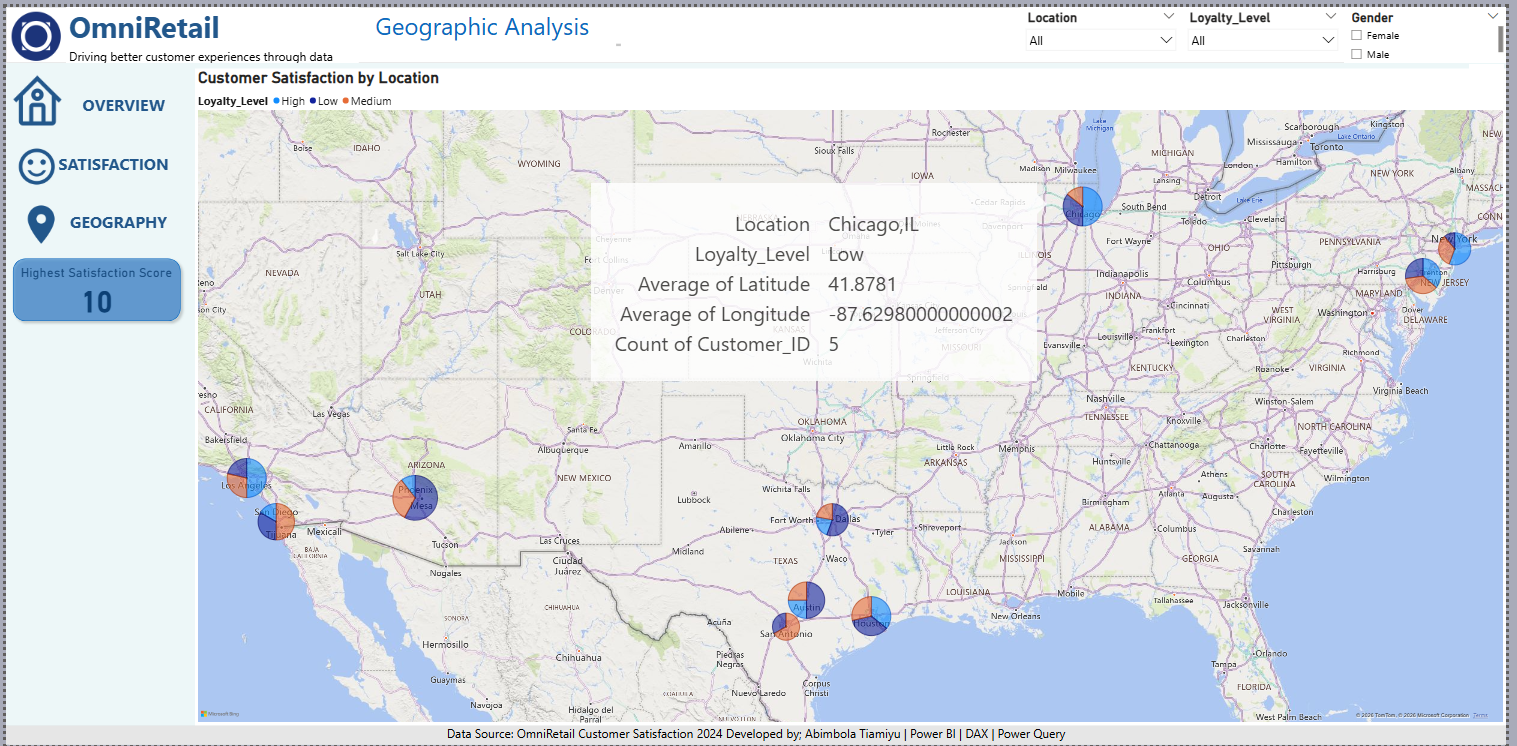

The page's visual inventory and layout, read from the dashboard file:
{"tool":"powerbi","page":{"name":"GEOGRAPHIC ANALYSIS","canvas":[2500,1230],"ordinal":2},"visuals":[{"type":"shape","box":[0,0,2500,1230],"z":0},{"type":"shape","box":[0,0,2500,92.5],"z":1000},{"type":"image","box":[0,2.5,100,92.5],"z":2000},{"type":"textbox","title":"Geographic Analysis","box":[557.5,2.5,472.5,67.5],"z":3000},{"type":"map","title":"Customer Satisfaction by Location","fields":{"Category":["Dataset.Location"],"Series":["Dataset.Loyalty_Level"],"Y":["Avg(Dataset.Latitude)"],"X":["Avg(Dataset.Longitude)"],"Size":["CountNonNull(Dataset.Customer_ID)"]},"box":[315,102.5,2185,1095],"z":4000},{"type":"card","title":"Highest Satisfaction Score","fields":{"Values":["Dataset.Highest Satisfacion Score"]},"box":[10.5,430,281.6,85],"z":4000,"group":"g1"},{"type":"group","id":"g1","title":"Group 4","box":[2.5,410,297.5,122.5],"z":5000},{"type":"textbox","title":"Data Source: OmniRetail Customer Satisfaction 2024    Developed by; Abimbola Tiamiyu |  Power BI |  DAX |  Power Query ","box":[0,1197.5,2500,32.5],"z":6000},{"type":"slicer","fields":{"Values":["Dataset.Location"]},"box":[1690,0,270,90],"z":7000},{"type":"slicer","fields":{"Values":["Dataset.Loyalty_Level"]},"box":[1960,0,270,90],"z":8000},{"type":"slicer","fields":{"Values":["Dataset.Gender"]},"box":[2230,0,270,92.5],"z":9000},{"type":"textbox","title":"OmniRetail","box":[100,0,488,93],"z":10000},{"type":"group","id":"g2","title":"Group 3","box":[15,315,262.5,95],"z":11000},{"type":"group","id":"g3","title":"Group 1","box":[8.8,219.3,265,92.2],"z":12000},{"type":"group","id":"g4","title":"Group 2","box":[0,107.5,270,95],"z":13000},{"type":"actionButton","box":[93.5,123.6,176.5,78.9],"z":16000,"group":"g4"},{"type":"image","box":[0,107.5,105,95],"z":17000,"group":"g4"},{"type":"actionButton","box":[73.8,219.3,200,82],"z":17000,"group":"g3"},{"type":"actionButton","box":[97.5,325.9,180,65.4],"z":17000,"group":"g2"},{"type":"image","box":[8.8,219.3,82.5,92.2],"z":19000,"group":"g3"},{"type":"image","box":[15,315,87.2,95],"z":19002,"group":"g2"},{"type":"shape","box":[2.5,410,297.5,122.5],"z":25001,"group":"g1"}]}

Visuals, with their boxes on the page's 2500x1230 design canvas (x1, y1, x2, y2). These are canvas units, not pixel positions in the 1517x746 screenshot, which may show the page scaled, cropped or inside an application window:
shape: region(0, 0, 2500, 1230)
shape: region(0, 0, 2500, 92)
image: region(0, 2, 100, 95)
"Geographic Analysis" textbox: region(558, 2, 1030, 70)
"Customer Satisfaction by Location" map: region(315, 102, 2500, 1198)
"Highest Satisfaction Score" card: region(10, 430, 292, 515)
"Group 4" group: region(2, 410, 300, 532)
"Data Source: OmniRetail Customer Satisfaction 2024    Developed by; Abimbola Tiamiyu |  Power BI |  DAX |  Power Query " textbox: region(0, 1198, 2500, 1230)
slicer - Dataset.Location: region(1690, 0, 1960, 90)
slicer - Dataset.Loyalty_Level: region(1960, 0, 2230, 90)
slicer - Dataset.Gender: region(2230, 0, 2500, 92)
"OmniRetail" textbox: region(100, 0, 588, 93)
"Group 3" group: region(15, 315, 278, 410)
"Group 1" group: region(9, 219, 274, 312)
"Group 2" group: region(0, 108, 270, 202)
actionButton: region(94, 124, 270, 202)
image: region(0, 108, 105, 202)
actionButton: region(74, 219, 274, 301)
actionButton: region(98, 326, 278, 391)
image: region(9, 219, 91, 312)
image: region(15, 315, 102, 410)
shape: region(2, 410, 300, 532)
